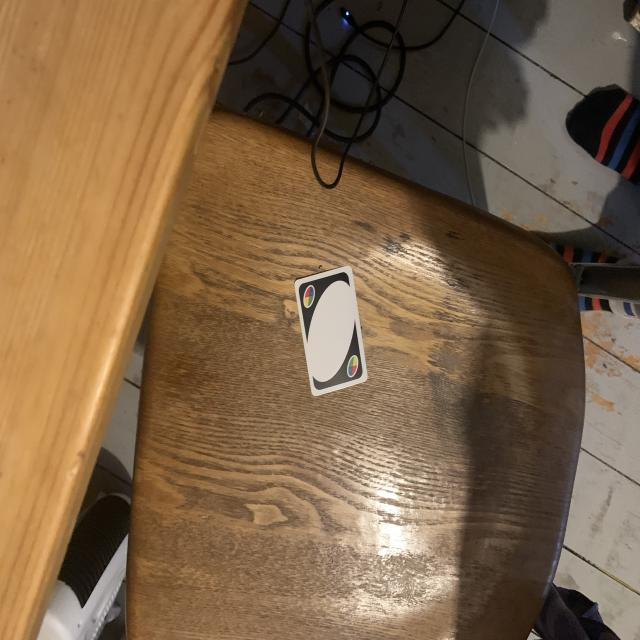lcolor-40: (296, 284, 318, 310)
